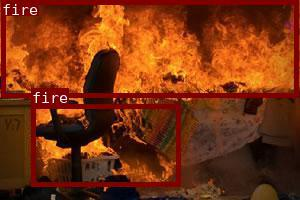fire: (0, 0, 298, 96), (31, 103, 179, 185)
